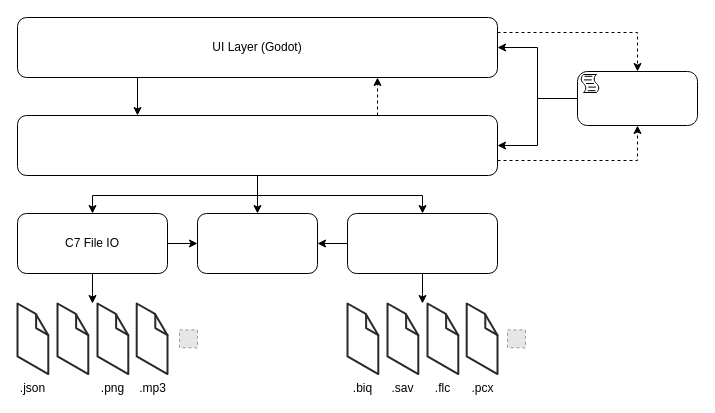
The diagram is 715 pixels wide and 413 high, and some of its shapes have lost their labels. Grey dashed boxes stand in for pictures. The box of each missing label's shape, as (x1, y1, x2, y2) in pixels:
.webP: (56, 302, 88, 374)
Civ3 File IO: (346, 212, 498, 274)
Data Types: (196, 212, 318, 274)
Game Core: (16, 114, 498, 176)
Scripts: (576, 70, 698, 126)
